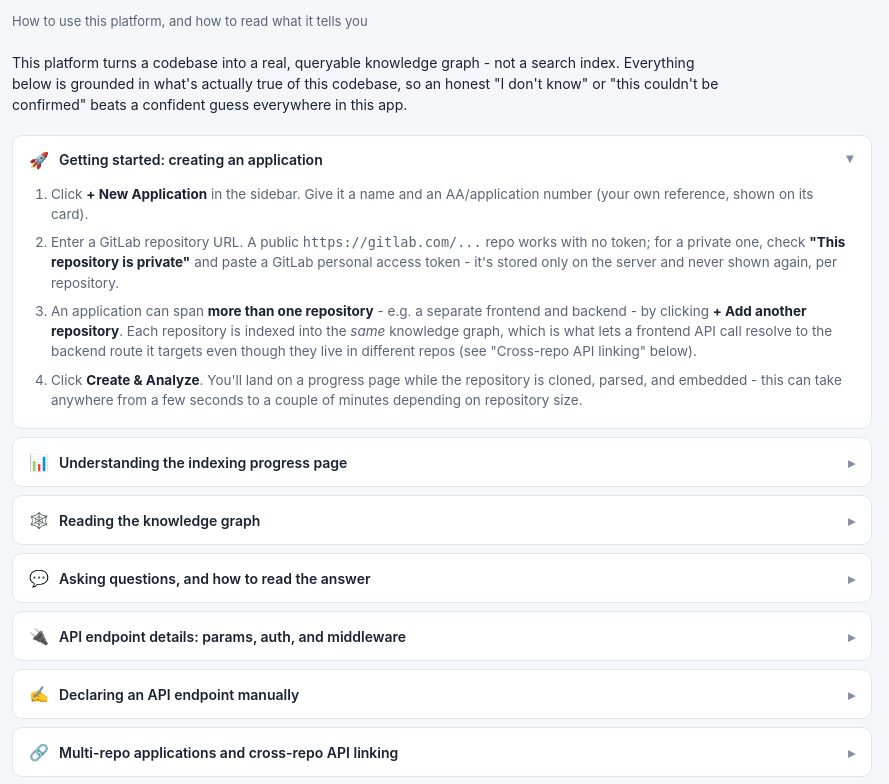
Test: InstructionsPage › expands a section on click to reveal its content
Click the text "Declaring an API endpoint manually": (164, 694) [29,684,299,704]
(page scrolled)
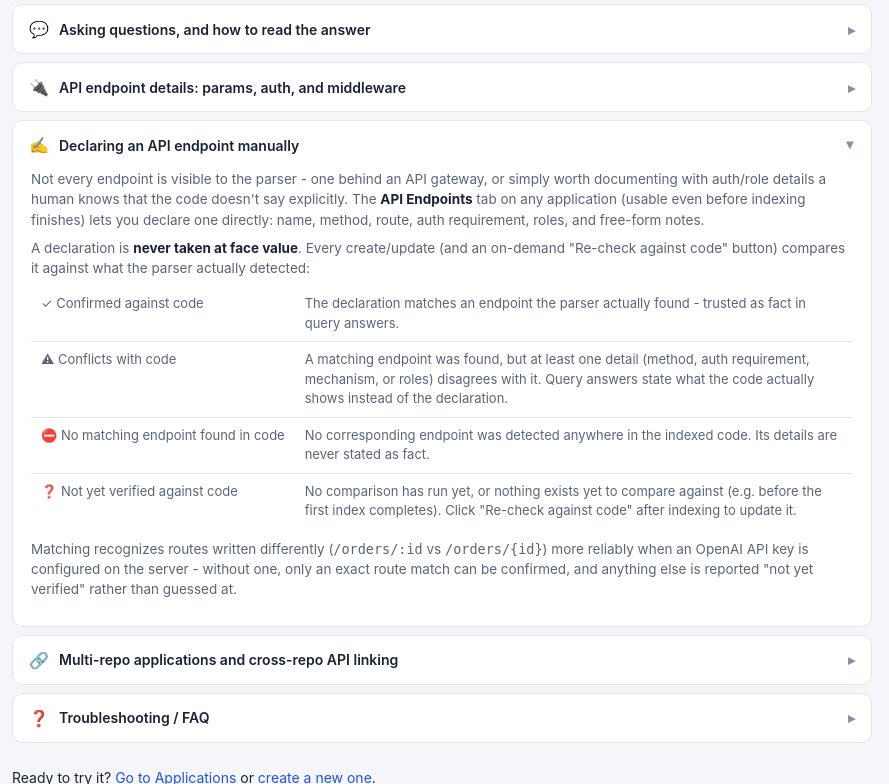
Now the text "Not every endpoint is visible to the parser" is shown, box [31,171,826,207]
Now the text "✓ Confirmed against code" is shown, box [31,286,295,342]
Now the text "⚠ Conflicts with code" is shown, box [31,342,295,417]
